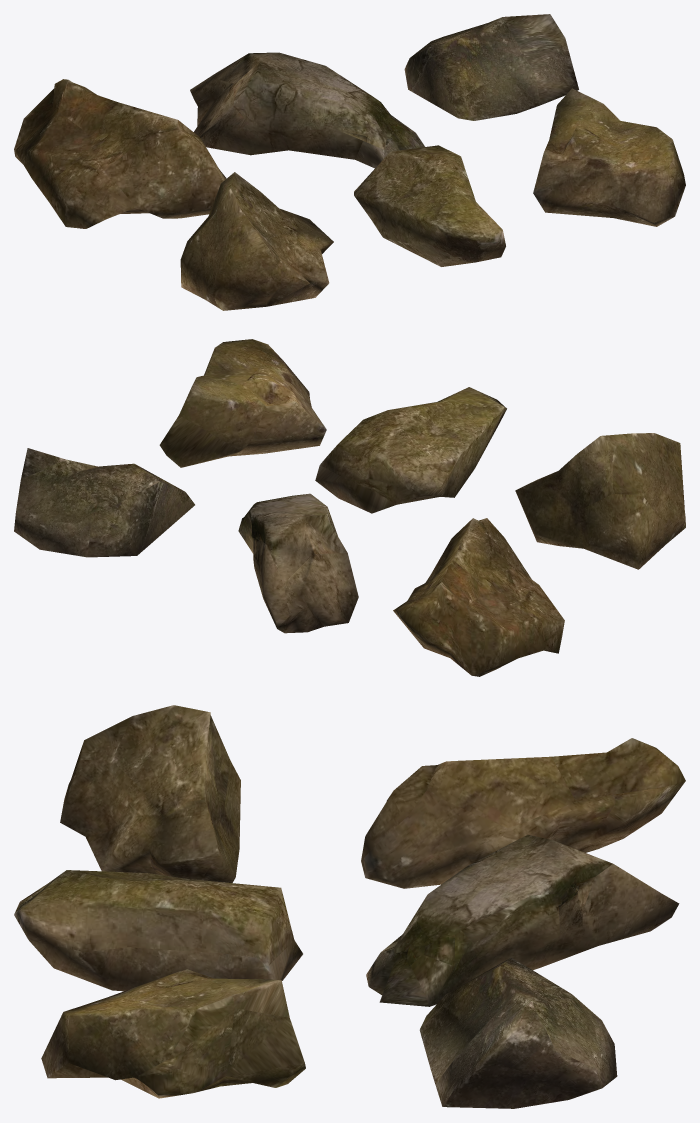
File: rock_moss_set_01.glb
The picture shows the model from 3 angles, top to bottom: view 1: azimuth 30°, elevation 25°; view 2: azimuth 150°, elevation 25°; view 3: azimuth 270°, elevation 25°; orthographic projection. The views are drawn at different scales.
Visible parts, largest first — view 1: rock_moss_set_01_rock01; view 2: rock_moss_set_01_rock01; view 3: rock_moss_set_01_rock01.
Boxes of the visible parts, bbox=[...] form: rock_moss_set_01_rock01: bbox=[14, 14, 685, 310]; rock_moss_set_01_rock01: bbox=[14, 339, 685, 676]; rock_moss_set_01_rock01: bbox=[14, 705, 685, 1108].
Size of the model in its own units: 7.93 by 1.75 by 6.94.
1 material, 1 textured.
